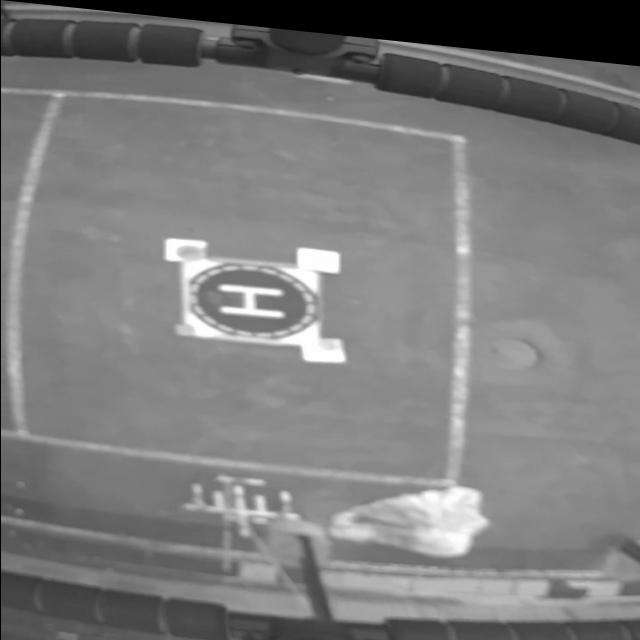Helipad: (214, 278, 286, 314)
